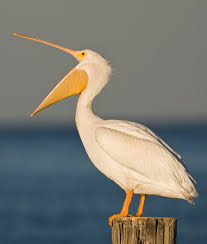pelican: (12, 32, 201, 223)
